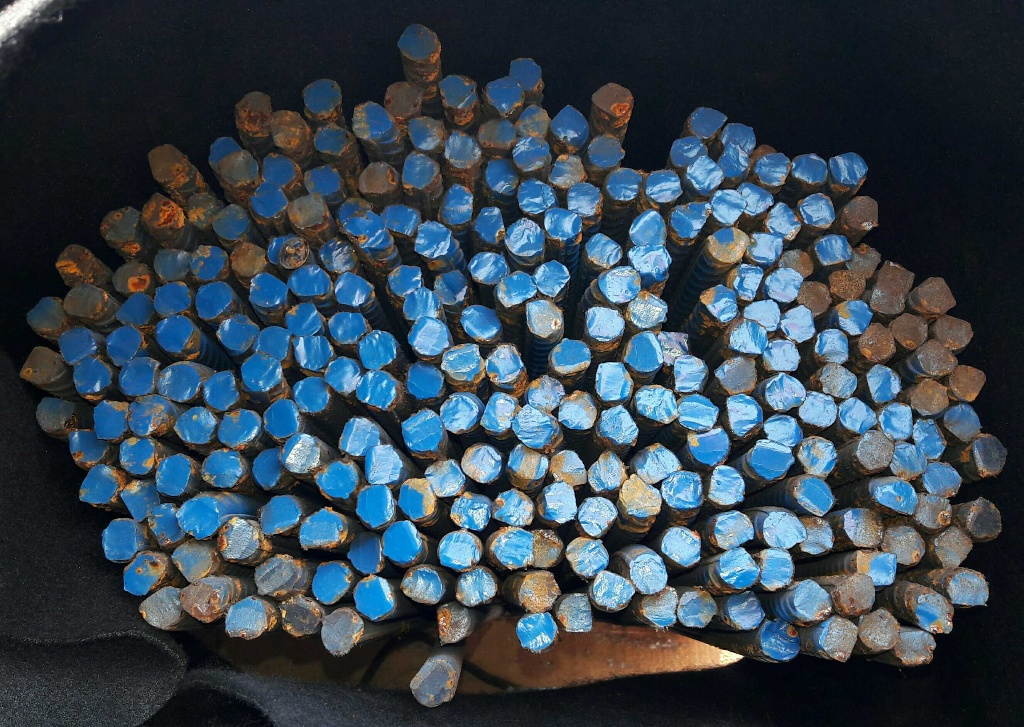dipstick: (512, 404, 559, 448), (633, 442, 681, 485), (322, 608, 364, 656), (619, 473, 662, 517), (299, 508, 345, 549), (254, 555, 297, 598), (176, 497, 220, 539), (401, 409, 442, 453), (140, 587, 181, 630), (217, 517, 258, 560), (565, 536, 608, 577), (202, 449, 246, 489), (354, 576, 394, 620), (172, 541, 213, 583), (356, 369, 397, 411), (410, 664, 451, 706), (147, 501, 187, 544), (750, 440, 793, 480), (142, 193, 183, 234), (518, 571, 559, 612), (718, 547, 759, 588), (123, 555, 165, 595), (225, 598, 267, 638), (382, 520, 422, 562), (492, 527, 534, 567), (587, 450, 627, 492), (218, 409, 261, 448), (253, 446, 291, 490), (871, 478, 917, 514), (280, 595, 320, 636), (280, 433, 320, 474), (353, 101, 393, 142), (339, 417, 380, 457), (461, 443, 502, 483), (577, 497, 618, 537), (859, 609, 899, 650), (312, 562, 351, 604), (798, 436, 837, 478), (235, 92, 272, 136), (820, 618, 857, 662), (156, 364, 201, 400), (79, 464, 119, 504), (624, 331, 664, 371), (121, 480, 160, 521), (760, 620, 801, 659), (182, 581, 220, 623), (401, 565, 443, 603), (438, 531, 480, 569), (551, 106, 589, 148), (687, 425, 729, 463), (662, 470, 705, 507), (762, 512, 806, 548), (726, 394, 762, 438), (442, 343, 482, 382), (599, 404, 638, 444), (794, 580, 833, 620), (835, 574, 875, 613), (259, 496, 300, 534), (302, 78, 343, 116), (456, 569, 497, 607), (451, 492, 492, 530), (517, 612, 558, 650), (398, 478, 435, 520), (441, 392, 478, 434), (593, 571, 635, 608), (883, 527, 925, 564), (598, 266, 641, 302), (759, 547, 795, 590), (63, 284, 108, 318), (127, 397, 167, 435), (662, 526, 700, 566), (640, 586, 678, 626), (794, 477, 834, 515), (56, 244, 93, 285), (195, 282, 236, 319), (240, 354, 281, 391), (218, 314, 259, 351), (626, 290, 667, 327), (713, 512, 754, 549), (174, 407, 216, 443), (492, 489, 534, 525), (936, 527, 972, 569), (356, 484, 394, 523), (558, 391, 597, 429), (629, 554, 667, 593), (857, 430, 895, 469), (100, 206, 140, 243), (425, 459, 465, 496), (397, 24, 437, 61), (637, 386, 677, 423), (916, 594, 953, 634), (155, 455, 191, 496), (349, 532, 385, 573), (317, 461, 358, 497), (496, 270, 537, 306), (479, 392, 515, 433), (671, 202, 712, 238), (724, 592, 765, 628), (715, 357, 756, 393), (102, 518, 136, 561), (409, 317, 447, 355), (595, 362, 633, 400), (287, 192, 326, 229), (540, 483, 577, 522), (204, 370, 240, 410), (360, 330, 396, 370), (486, 344, 522, 384), (678, 395, 718, 431), (766, 375, 806, 411), (844, 509, 884, 545), (896, 629, 936, 665), (189, 246, 230, 281), (507, 444, 548, 479), (628, 245, 670, 279), (59, 328, 97, 365), (119, 357, 156, 395), (402, 152, 439, 190), (526, 299, 563, 337), (700, 284, 737, 322), (708, 466, 746, 503), (858, 323, 896, 360), (911, 378, 949, 415), (107, 326, 143, 365), (155, 316, 194, 352), (36, 396, 75, 432), (505, 218, 544, 254), (726, 262, 762, 301), (20, 346, 60, 381), (438, 601, 470, 644), (591, 83, 634, 115), (147, 144, 184, 181), (527, 375, 564, 412), (711, 188, 748, 225), (678, 591, 715, 628), (73, 357, 111, 393), (120, 436, 156, 474), (408, 361, 444, 399), (518, 178, 556, 214), (534, 260, 570, 298), (934, 312, 972, 348), (461, 305, 500, 340), (485, 76, 524, 111), (512, 136, 551, 171), (967, 498, 1002, 537), (153, 282, 193, 316), (314, 122, 354, 156), (707, 228, 747, 262), (913, 418, 945, 460), (293, 376, 329, 413), (799, 390, 836, 426), (891, 313, 928, 349), (839, 397, 876, 433), (93, 400, 128, 438), (264, 399, 299, 437), (294, 334, 332, 369), (365, 446, 400, 484), (586, 305, 624, 340), (629, 210, 667, 245), (945, 404, 980, 442), (920, 339, 958, 374), (403, 287, 442, 321), (868, 363, 901, 403), (948, 571, 988, 604), (468, 251, 509, 283), (974, 435, 1005, 477), (445, 132, 481, 168), (919, 277, 956, 312), (212, 204, 250, 238), (116, 292, 154, 326), (271, 110, 305, 148), (439, 185, 473, 223), (764, 268, 802, 302), (113, 261, 152, 294), (218, 152, 257, 185), (318, 238, 357, 271), (729, 320, 768, 353), (922, 462, 961, 495), (69, 430, 109, 462), (551, 339, 591, 371), (289, 264, 330, 295), (187, 192, 222, 228), (253, 326, 289, 361), (551, 450, 587, 485), (950, 365, 986, 400), (284, 303, 321, 337), (385, 82, 422, 116), (26, 297, 64, 330), (249, 273, 287, 306), (559, 594, 592, 632), (585, 233, 623, 266), (689, 106, 727, 139), (359, 162, 398, 194), (857, 551, 896, 583), (870, 279, 905, 314), (891, 443, 926, 478), (305, 162, 341, 196), (326, 358, 360, 394), (414, 222, 450, 256), (409, 117, 445, 151), (567, 183, 603, 217), (767, 203, 801, 239), (335, 272, 372, 305), (438, 75, 475, 108), (549, 155, 586, 188), (544, 207, 582, 239), (830, 152, 868, 184), (846, 244, 881, 278), (821, 363, 856, 397), (486, 158, 519, 194), (687, 157, 723, 190), (781, 305, 814, 341), (674, 355, 707, 391), (800, 193, 836, 226), (797, 279, 830, 315), (879, 404, 912, 440), (153, 247, 190, 279), (328, 312, 365, 344), (588, 134, 625, 166), (645, 170, 682, 202), (801, 516, 833, 553), (764, 414, 802, 445), (828, 270, 866, 301), (232, 243, 266, 277), (516, 105, 550, 139), (838, 301, 872, 335), (262, 153, 295, 188), (815, 329, 848, 364), (917, 495, 952, 528), (382, 204, 419, 235), (475, 207, 506, 244), (532, 529, 563, 566), (479, 119, 517, 149), (815, 235, 854, 264), (434, 271, 467, 305), (252, 185, 287, 217), (756, 153, 791, 185), (388, 265, 421, 298), (739, 183, 773, 215), (844, 196, 878, 228), (672, 136, 707, 167), (606, 169, 642, 199), (722, 122, 755, 154), (657, 331, 689, 364), (749, 231, 783, 262), (764, 340, 798, 371), (793, 153, 827, 184), (779, 249, 813, 279), (745, 300, 780, 329), (510, 58, 542, 89), (718, 143, 749, 175), (880, 261, 914, 290), (345, 210, 381, 237), (209, 137, 240, 167), (340, 197, 373, 225)
